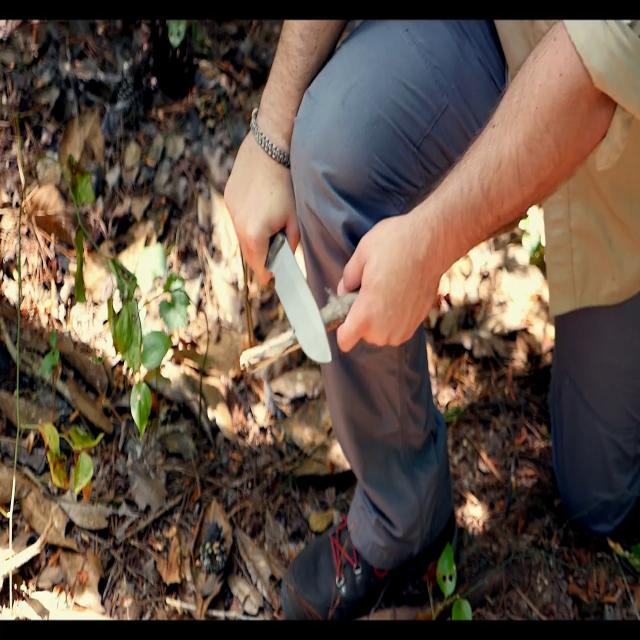knife: (266, 228, 334, 377)
